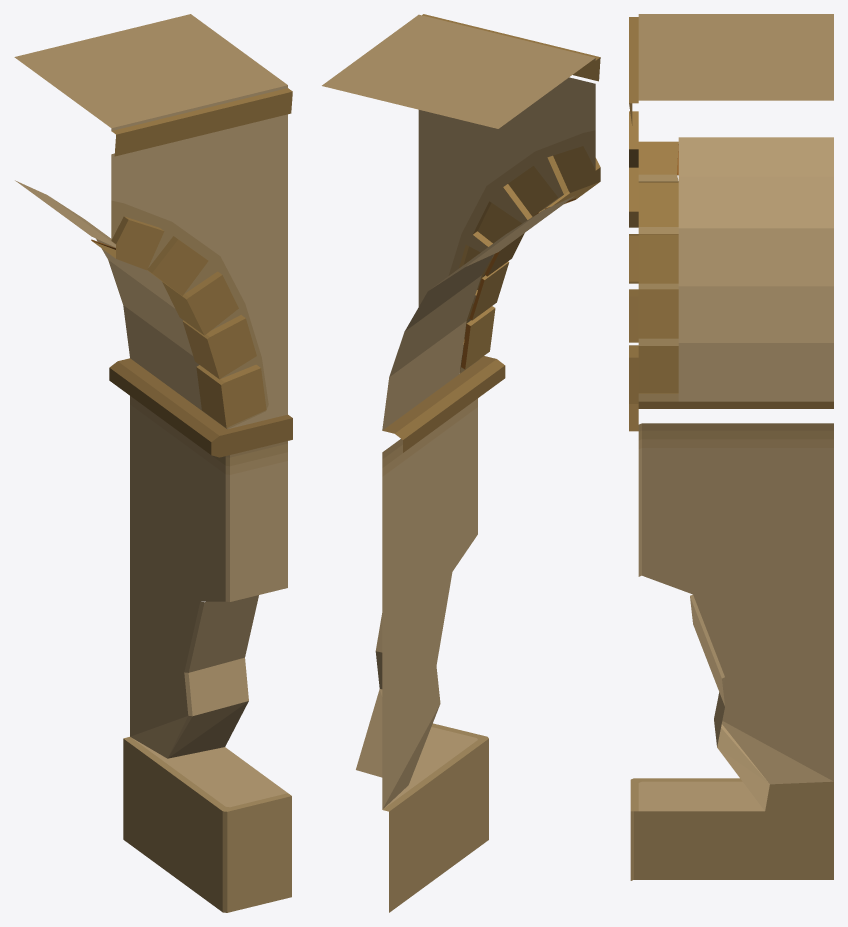
Rendered from model_loc_3061_8.obj.
3 views of the same model, side by side, from view 1: azimuth 30°, elevation 25°; view 2: azimuth 150°, elevation 25°; view 3: azimuth 270°, elevation 25° (orthographic).
Parts seen in each view (by area): view 1: 3226; view 2: 3226; view 3: 3226.
Boxes of the visible parts, bbox=[...] form: 3226: bbox=[14, 14, 292, 912]; 3226: bbox=[322, 14, 600, 912]; 3226: bbox=[629, 14, 833, 880].
Bounding box in the file's own units: 128 × 560 × 128.
